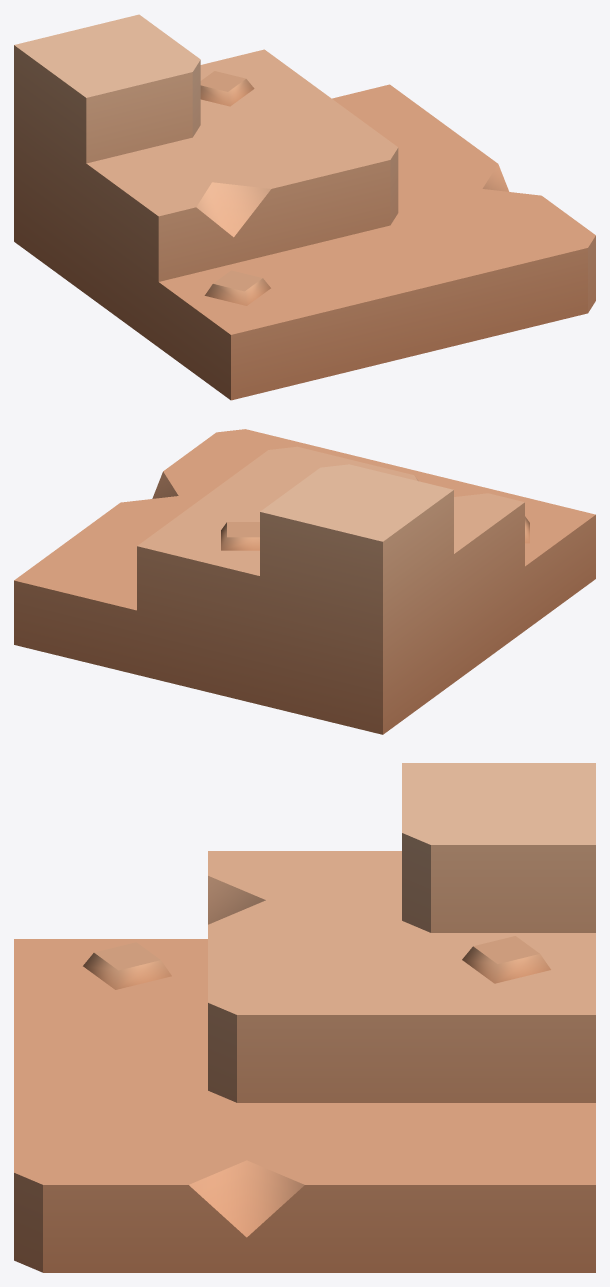
File: stairs-corner.glb
The picture shows the model from 3 angles, top to bottom: view 1: azimuth 30°, elevation 25°; view 2: azimuth 150°, elevation 25°; view 3: azimuth 270°, elevation 25°; orthographic projection. The views are drawn at different scales.
Parts seen in each view (by area): view 1: stairs-corner; view 2: stairs-corner; view 3: stairs-corner.
Boxes of the visible parts, x1,y1,x2,y2 form: stairs-corner: [14, 14, 595, 400]; stairs-corner: [14, 429, 595, 734]; stairs-corner: [14, 763, 595, 1272].
Bounding box in the file's own units: 1 × 0.5 × 1.
Materials: 1 (1 with a texture image).
